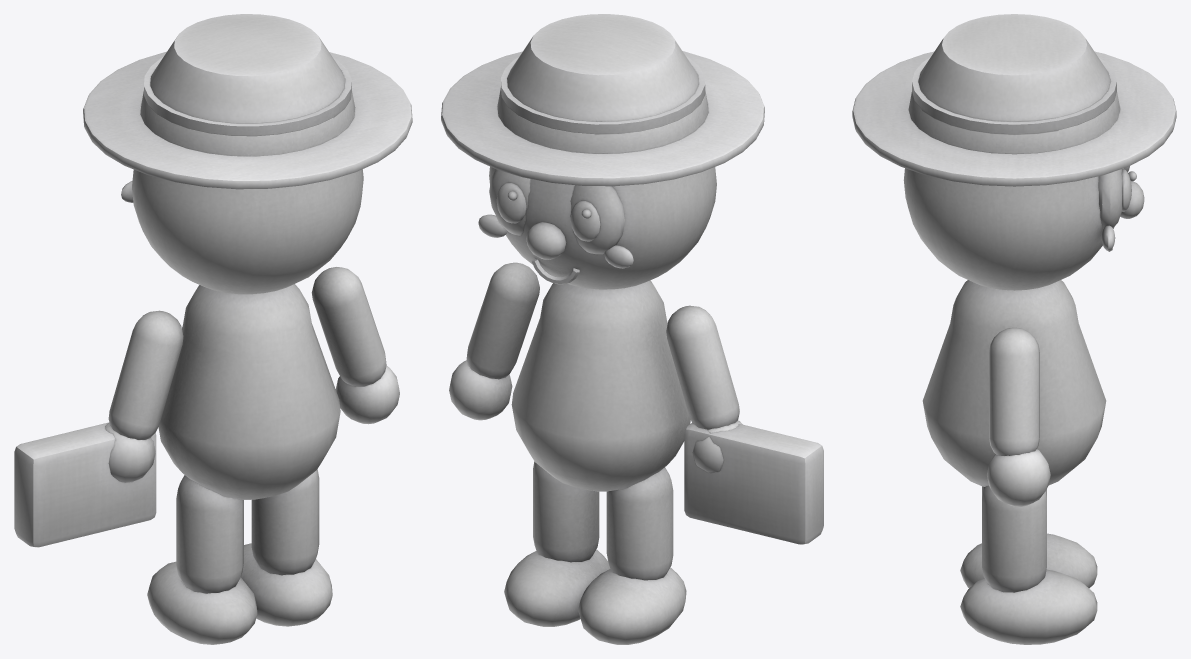
Rendered from Character_Passenger2.fbx.
3 renders of one model, left to right at view 1: azimuth 30°, elevation 25°; view 2: azimuth 150°, elevation 25°; view 3: azimuth 270°, elevation 25°, orthographic.
Parts seen in each view (by area): view 1: Character_Passenger2; view 2: Character_Passenger2; view 3: Character_Passenger2.
Part boxes in pixels (<box>): Character_Passenger2: <box>14,14,412,644</box>; Character_Passenger2: <box>441,14,823,644</box>; Character_Passenger2: <box>852,14,1176,644</box>.
Size of the model in its own units: 0.9881 by 1.51 by 0.76.
